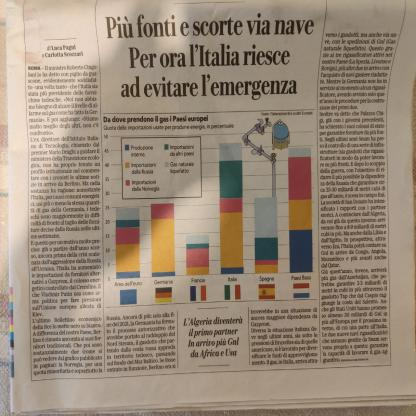immagine: (103, 109, 317, 307)
testo_col: (316, 24, 398, 371), (25, 59, 103, 385), (247, 306, 320, 374), (104, 312, 178, 375)
titolo: (98, 6, 316, 102)
